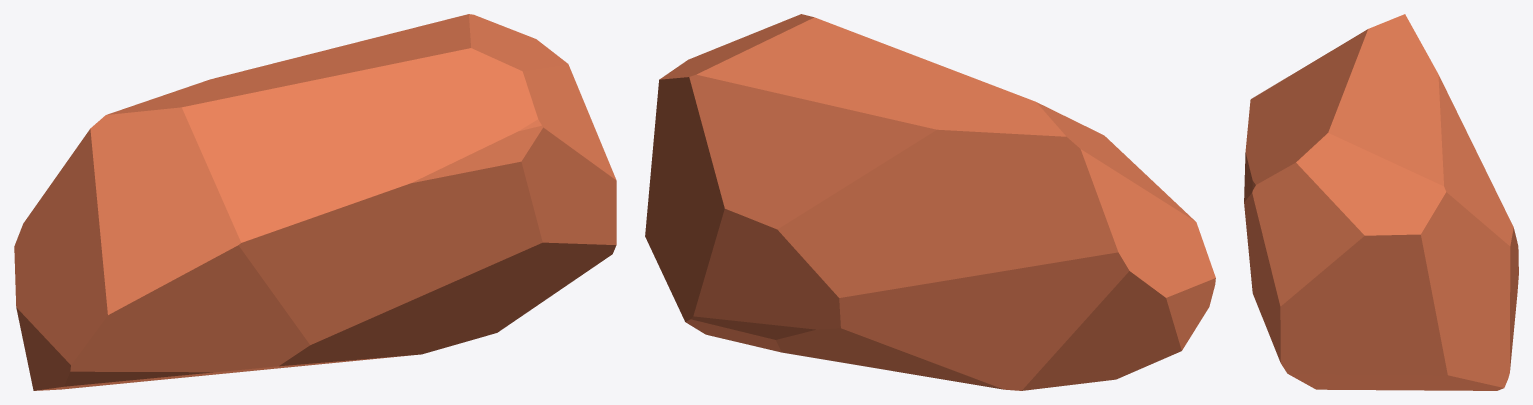
The model's file is Rock_V07.fbx.
3 views of the same model, side by side, from view 1: azimuth 30°, elevation 25°; view 2: azimuth 150°, elevation 25°; view 3: azimuth 270°, elevation 25° (orthographic). The views are drawn at different scales.
Parts seen in each view (by area): view 1: Rock_07; view 2: Rock_07; view 3: Rock_07.
Part boxes in pixels (x1,y1,x2,y2): Rock_07: (14, 14, 616, 390); Rock_07: (645, 14, 1215, 390); Rock_07: (1244, 14, 1518, 390).
Size of the model in its own units: 287 by 145 by 145.
